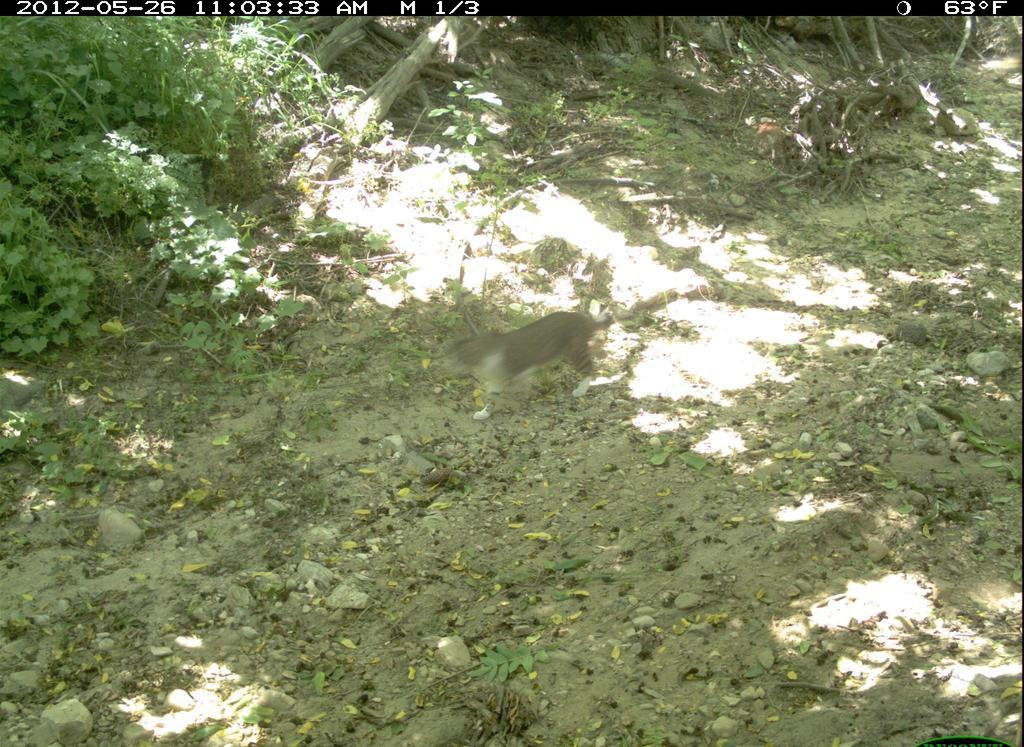cat: (445, 304, 621, 429)
